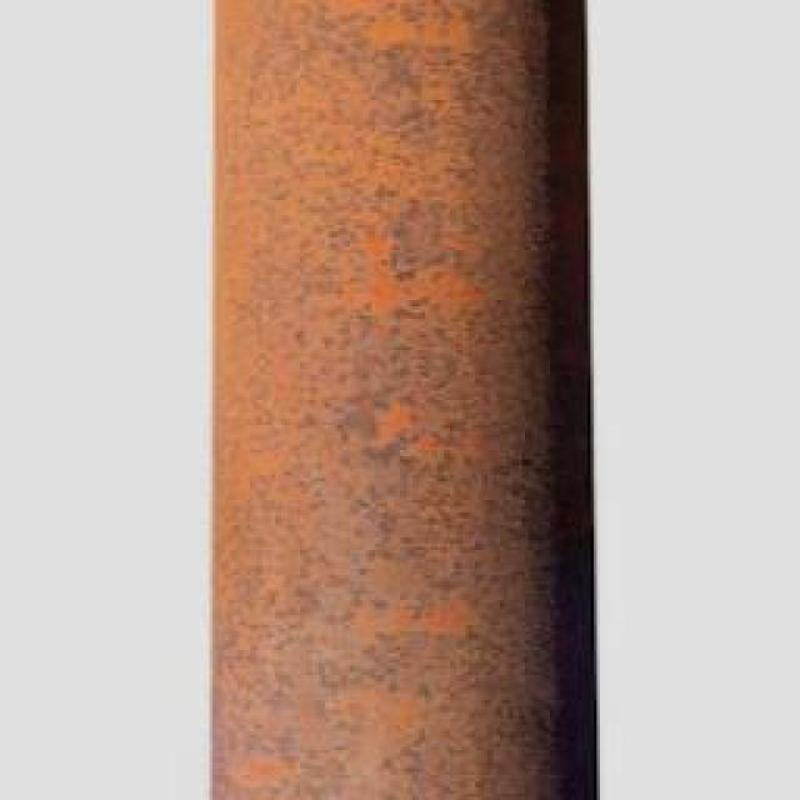corrosion: (208, 0, 592, 799)
